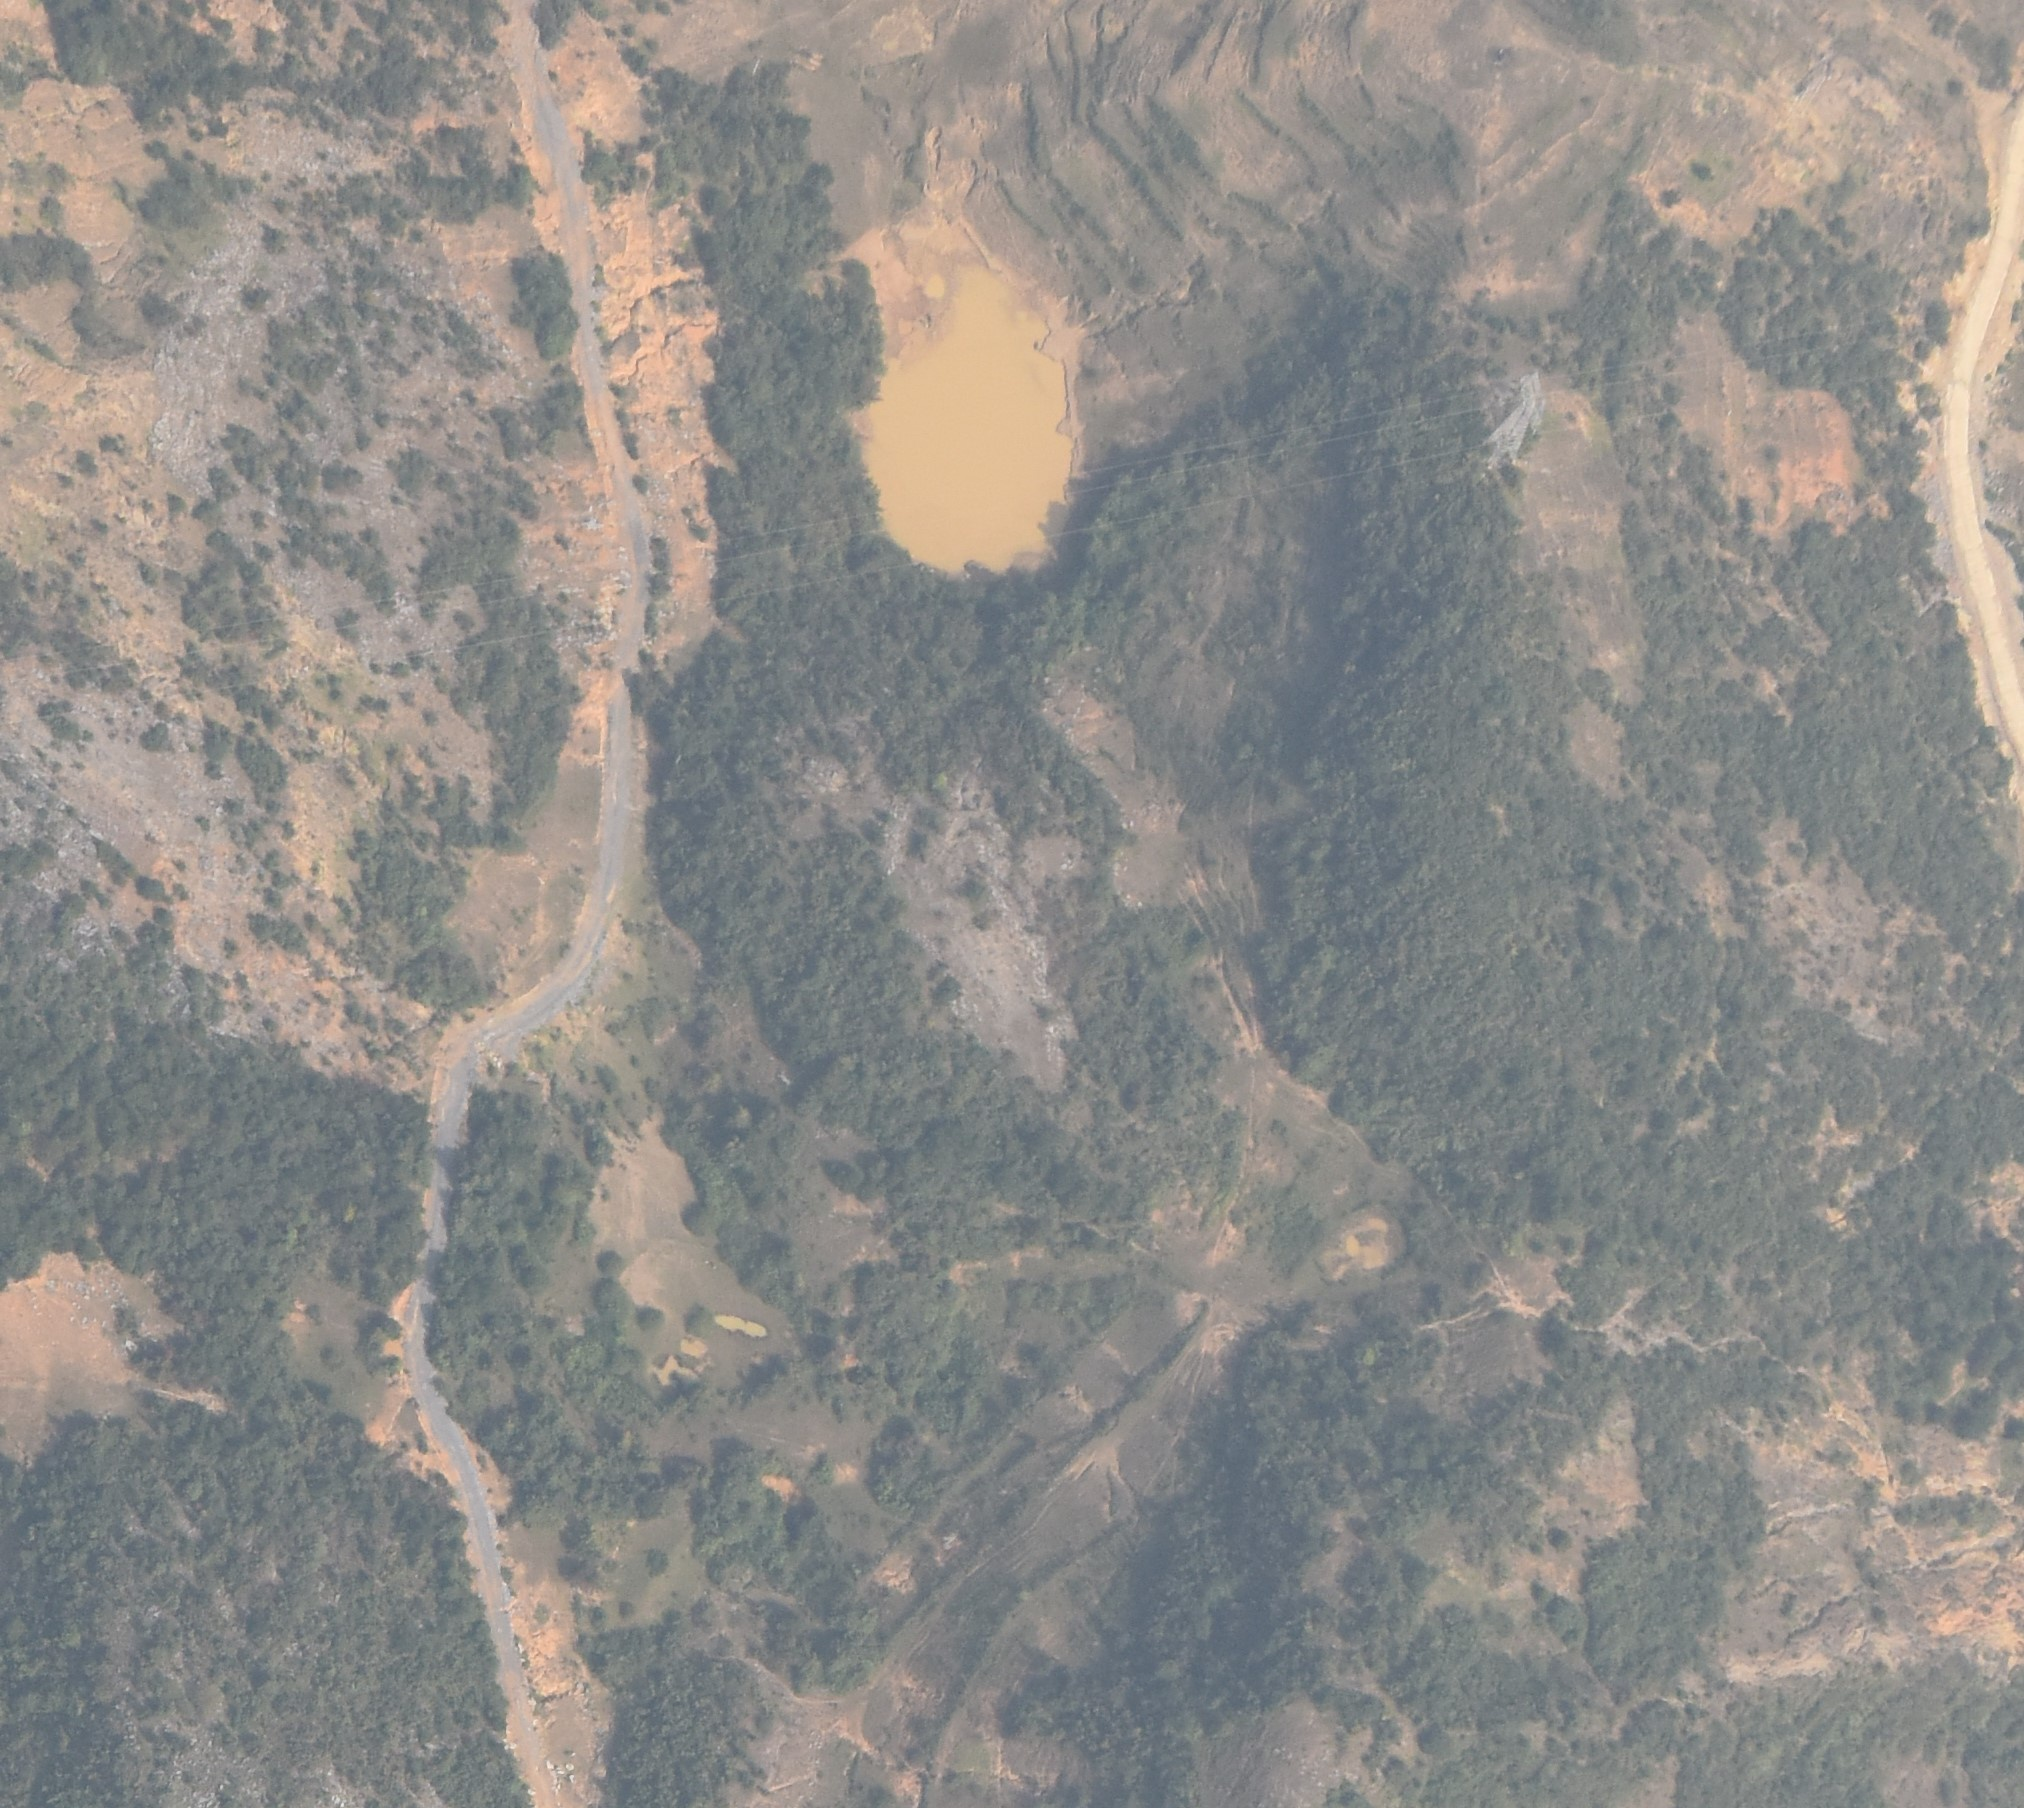cable-tower: (1482, 370, 1545, 467)
pool: (837, 217, 1085, 579)
